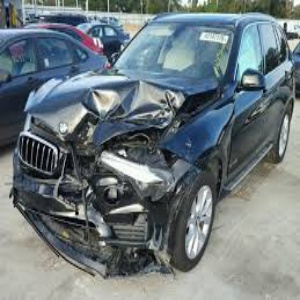bonnet: (44, 68, 188, 140)
bumper: (19, 170, 170, 278)
